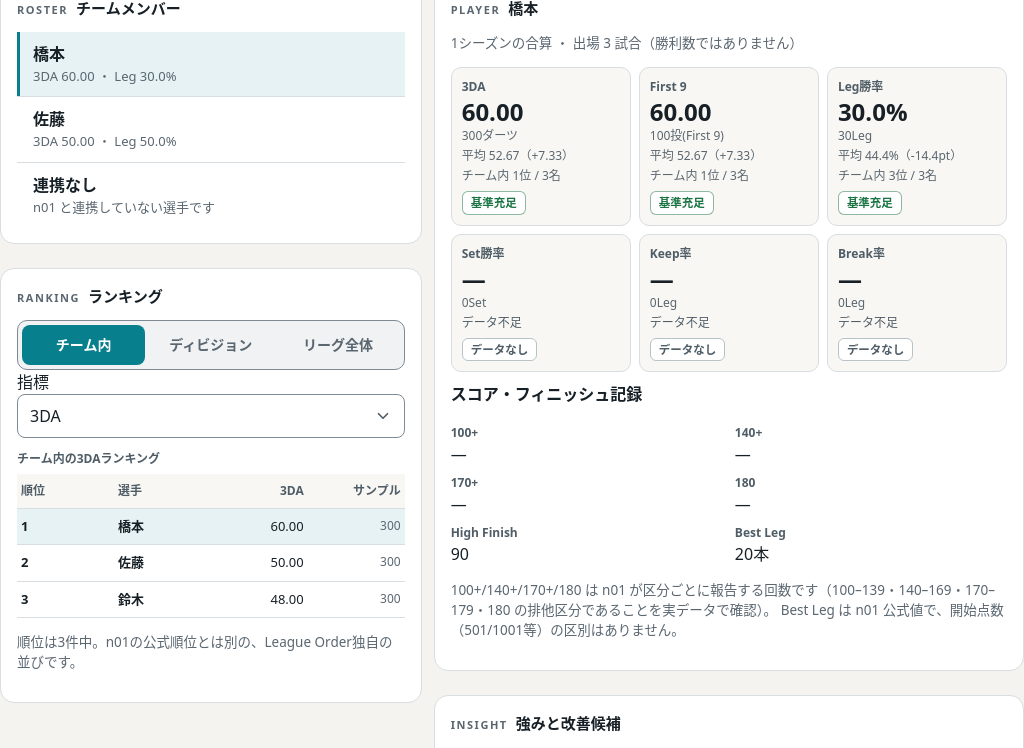
PlayerAnalytics screen › compares players side by side and marks small samples as reference
Click the button "リーグ全体" at coordinates (338, 344), box [276,324,400,364]
(page scrolled)
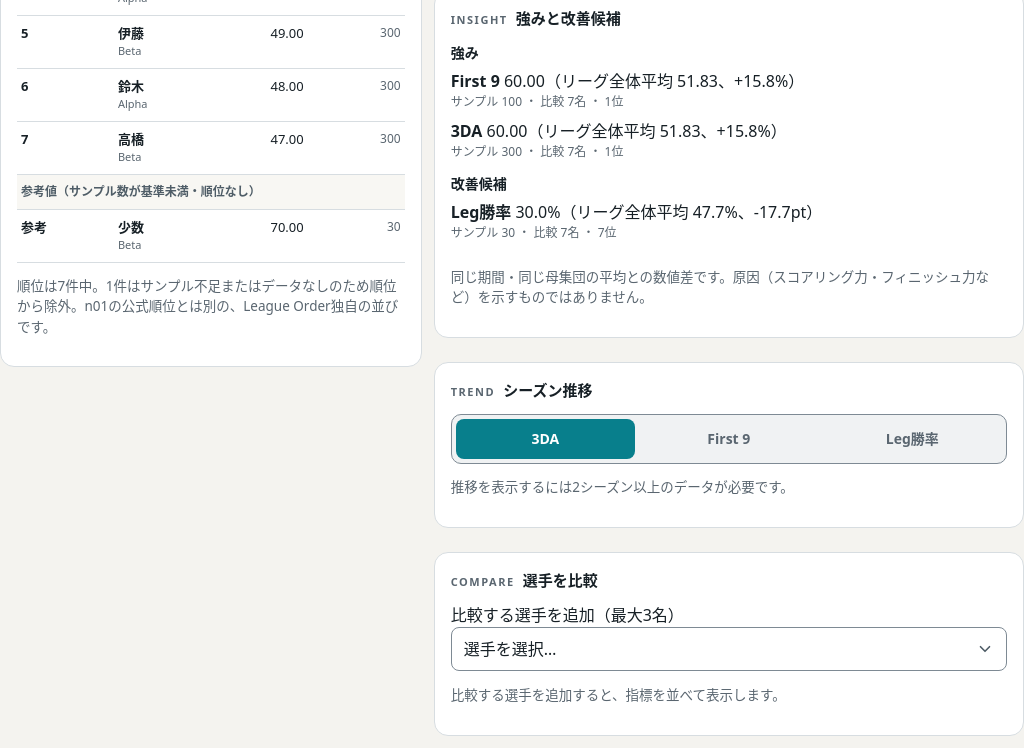
Select "少数" in the dropdown labelled "比較する選手を追加（最大3名）" at coordinates (729, 649), box [451,627,1007,671]
(page scrolled)
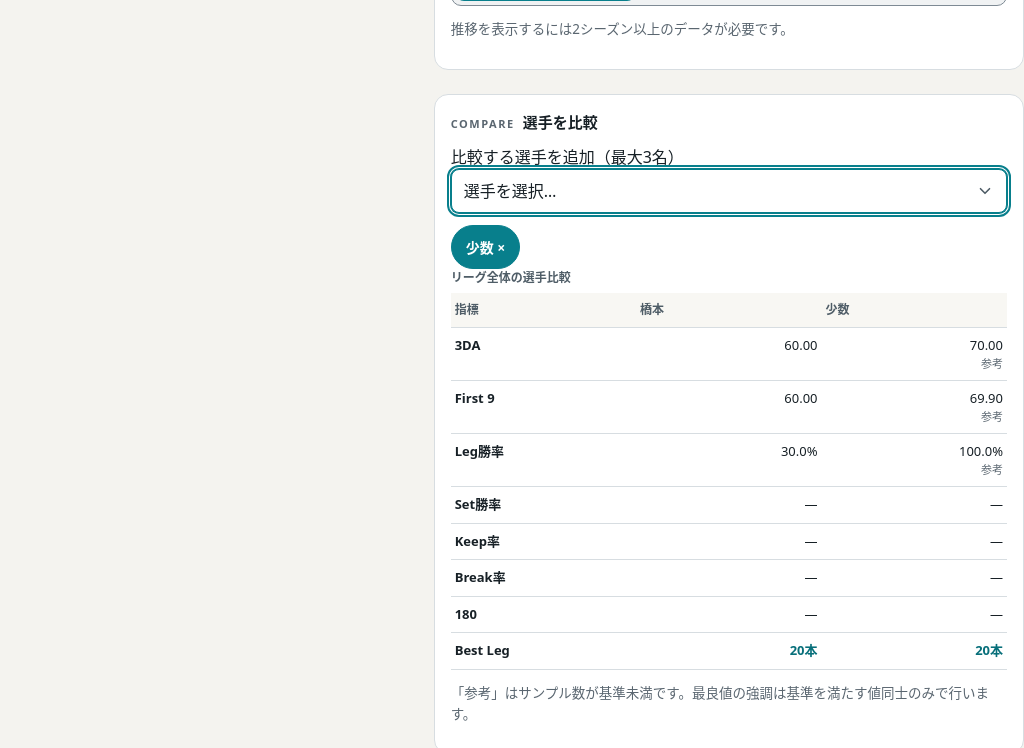
expect the column heading "少数" is shown: met, box [822,293,1007,328]
expect the 1st text "参考" is shown: met, box [981,356,1003,371]
